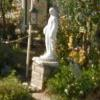Statue: (36, 5, 60, 74)
